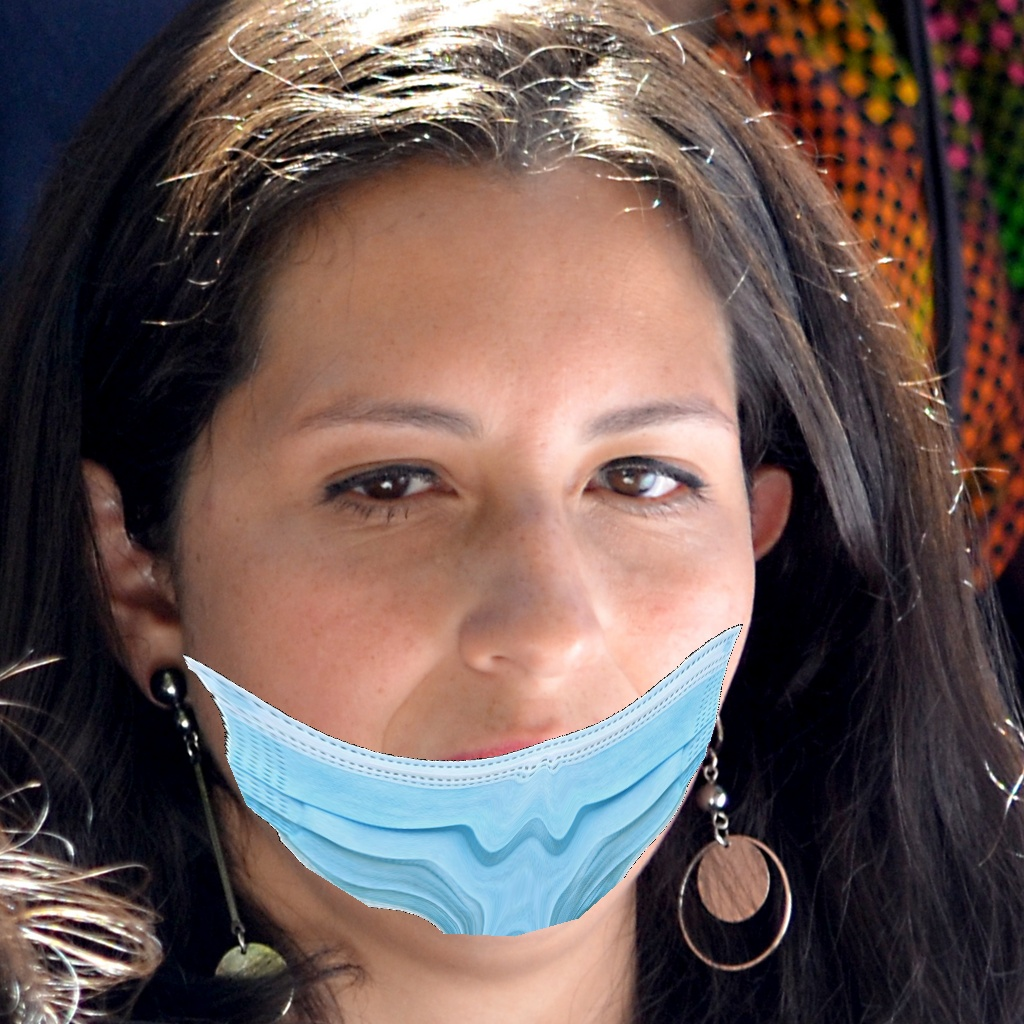mask_weared_incorrect: (232, 353, 741, 946)
